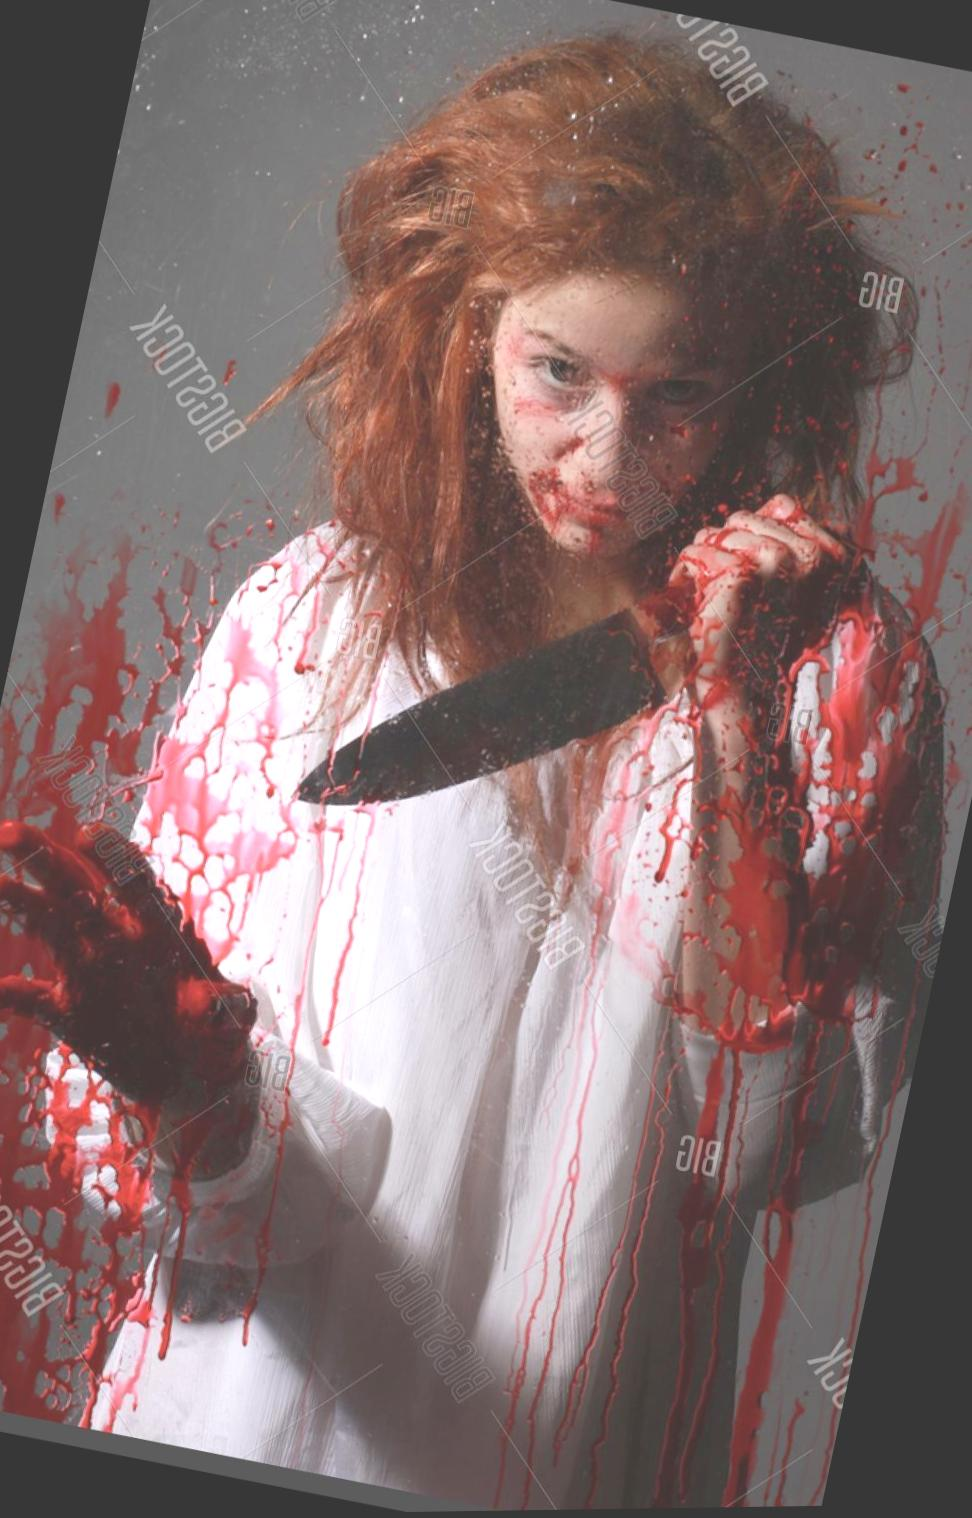Fire: (437, 697, 696, 1470), (678, 503, 942, 1051), (133, 624, 330, 982), (0, 537, 227, 830), (0, 1028, 136, 1358), (500, 405, 676, 562), (274, 810, 377, 1077), (43, 1046, 170, 1251), (856, 417, 972, 628), (722, 1205, 798, 1509)
